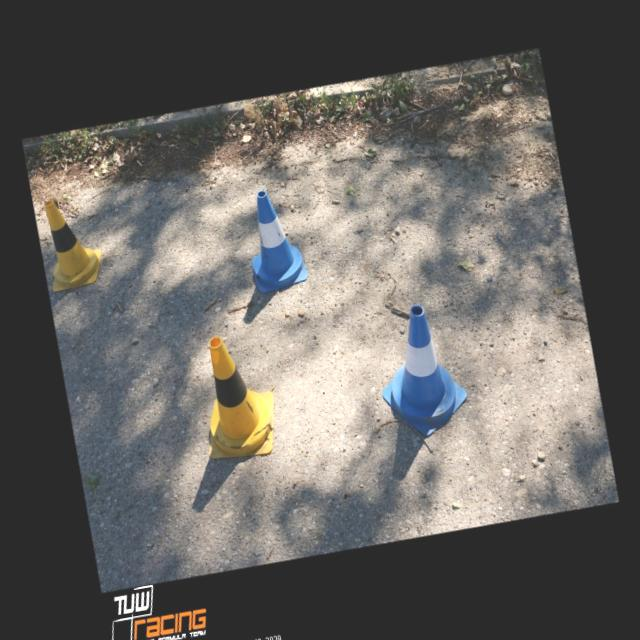blue_cone: (368, 298, 472, 442), (239, 185, 308, 293)
yellow_cone: (188, 328, 282, 462), (38, 192, 106, 291)
